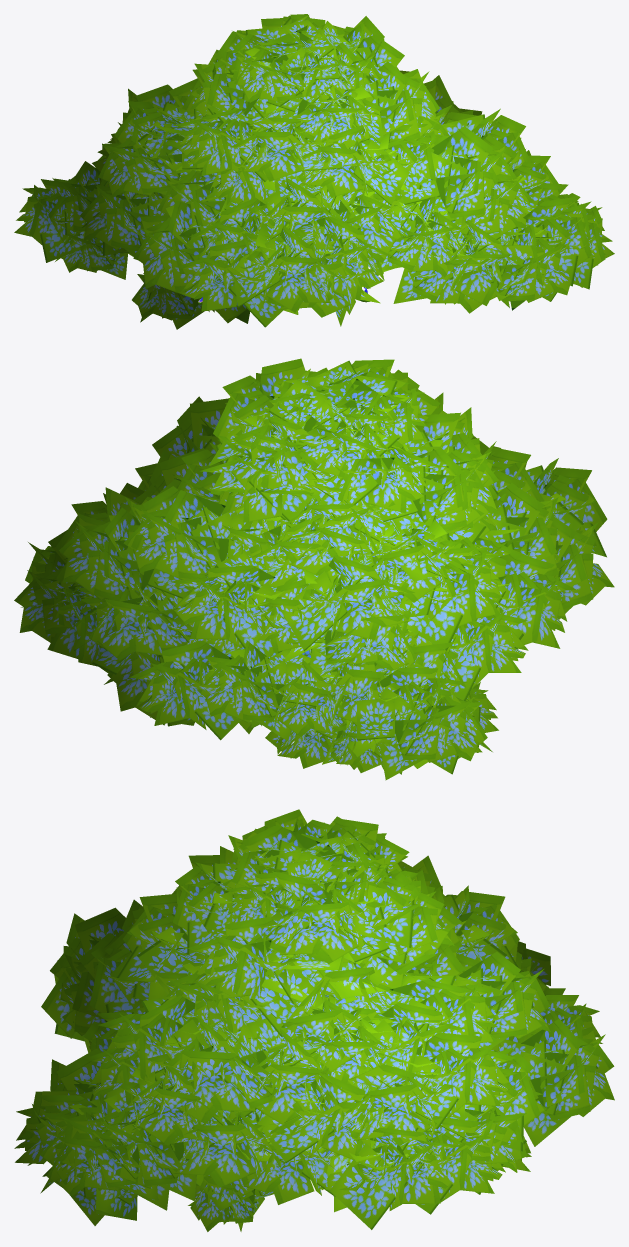
The model's file is Homeworld_Exterior_Xm_Plant_Tree_Slshu_01_Leaf_Lod0.fbx.
3 views of the same model, one above another, from view 1: azimuth 30°, elevation 25°; view 2: azimuth 150°, elevation 25°; view 3: azimuth 270°, elevation 25° (orthographic). The views are drawn at different scales.
Visible parts, largest first — view 1: Homeworld_Exterior_Xm_Plant_Tree_Slshu_01_Leaf_Lod0; view 2: Homeworld_Exterior_Xm_Plant_Tree_Slshu_01_Leaf_Lod0; view 3: Homeworld_Exterior_Xm_Plant_Tree_Slshu_01_Leaf_Lod0.
Boxes of the visible parts, x1,y1,x2,y2 form: Homeworld_Exterior_Xm_Plant_Tree_Slshu_01_Leaf_Lod0: (14, 14, 614, 329); Homeworld_Exterior_Xm_Plant_Tree_Slshu_01_Leaf_Lod0: (14, 358, 614, 780); Homeworld_Exterior_Xm_Plant_Tree_Slshu_01_Leaf_Lod0: (14, 809, 614, 1231).
Bounding box in the file's own units: 15.68 × 9.71 × 16.11.
2 materials, 2 textured.
